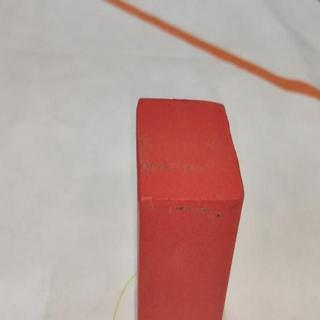redbox: (135, 97, 245, 320)
